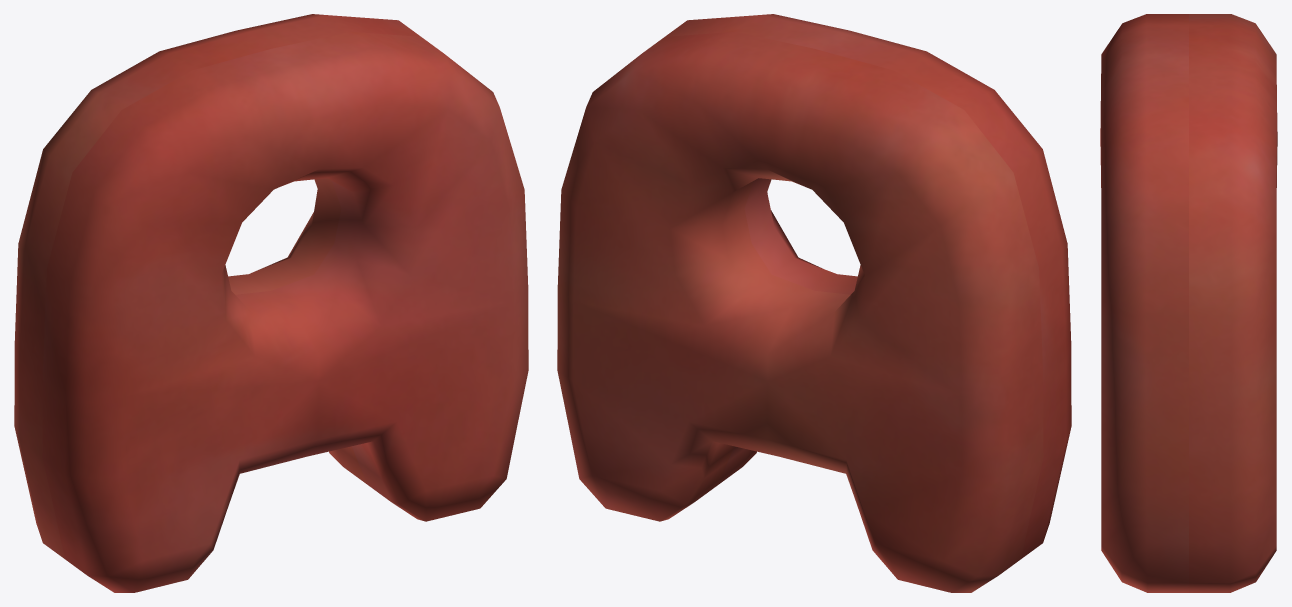
File: TestA.FBX
3 views of the same model, side by side, from view 1: azimuth 30°, elevation 25°; view 2: azimuth 150°, elevation 25°; view 3: azimuth 270°, elevation 25° (orthographic). The views are drawn at different scales.
Visible parts, largest first — view 1: A_mesh; view 2: A_mesh; view 3: A_mesh.
Part boxes in pixels (x1,y1,x2,y2): A_mesh: [14, 14, 528, 592]; A_mesh: [557, 14, 1071, 592]; A_mesh: [1100, 14, 1277, 592].
Bounding box in the file's own units: 1.69 × 1.71 × 0.6065.
